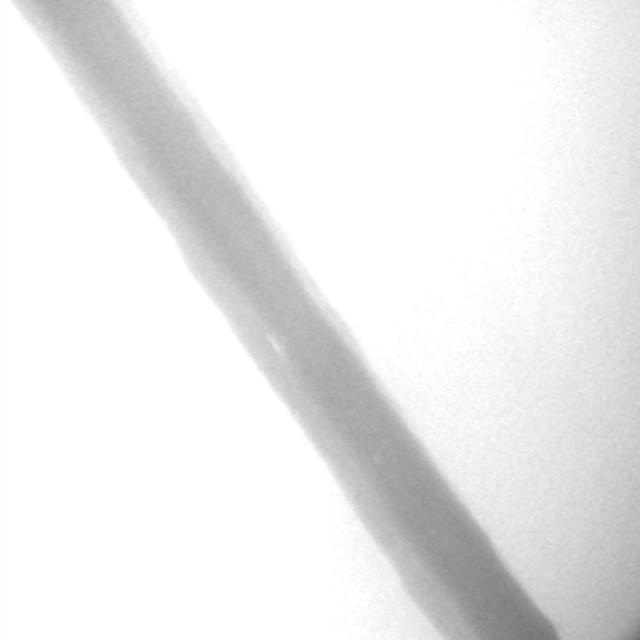air-hole: (270, 340, 284, 360), (377, 458, 385, 466), (432, 527, 434, 533)
broken-arc: (528, 589, 567, 640)
